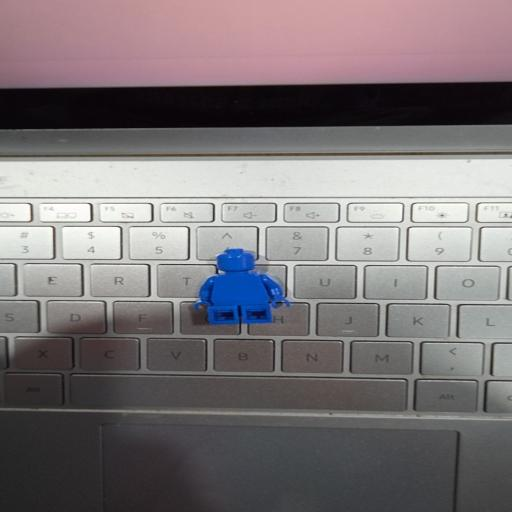Blue: (195, 249, 289, 324)
